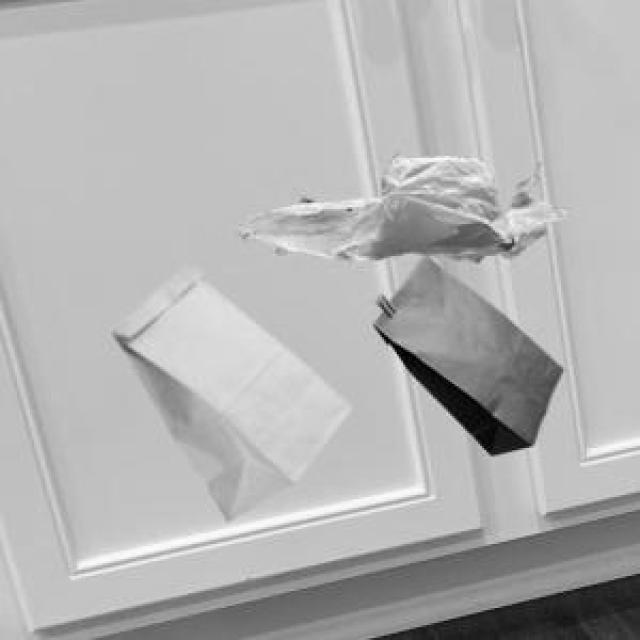paper: (109, 265, 346, 516), (369, 252, 559, 450)
